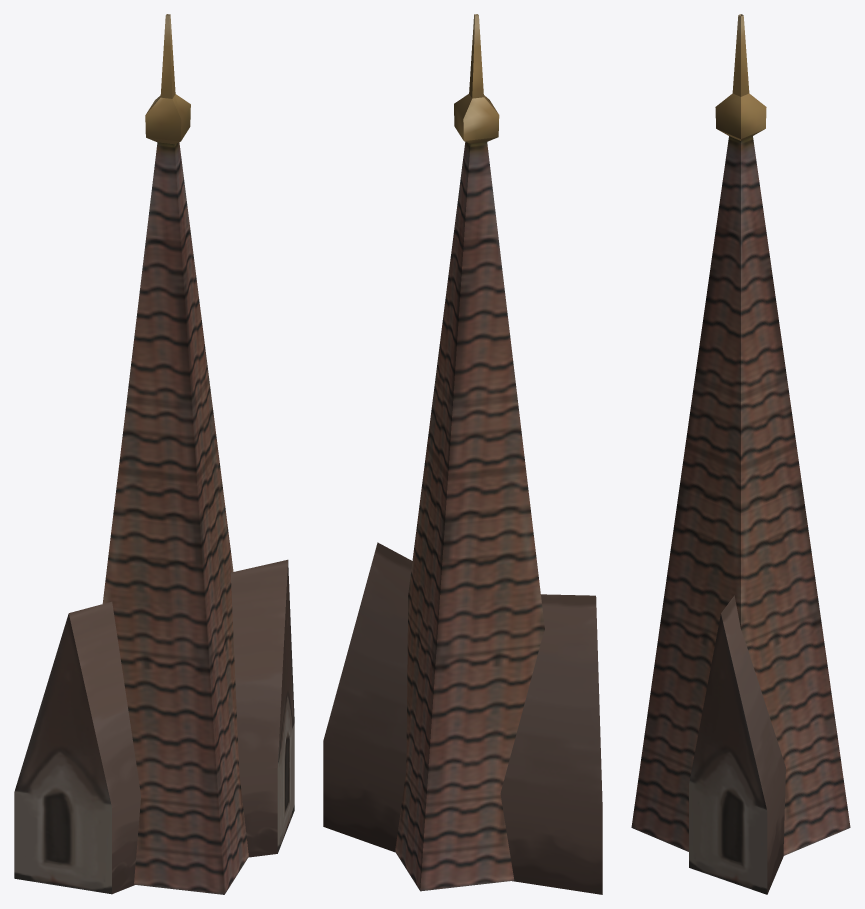
The model's file is SM_Plains_wuding04.FBX.
The picture shows the model from 3 angles, left to right: view 1: azimuth 30°, elevation 25°; view 2: azimuth 150°, elevation 25°; view 3: azimuth 270°, elevation 25°; orthographic projection. The views are drawn at different scales.
Parts seen in each view (by area): view 1: SM_Plains_wuding04; view 2: SM_Plains_wuding04; view 3: SM_Plains_wuding04.
Part boxes in pixels (<box>): SM_Plains_wuding04: <box>14,14,294,894</box>; SM_Plains_wuding04: <box>323,14,602,894</box>; SM_Plains_wuding04: <box>631,14,850,894</box>.
Bounding box in the file's own units: 376 × 1076 × 263.
